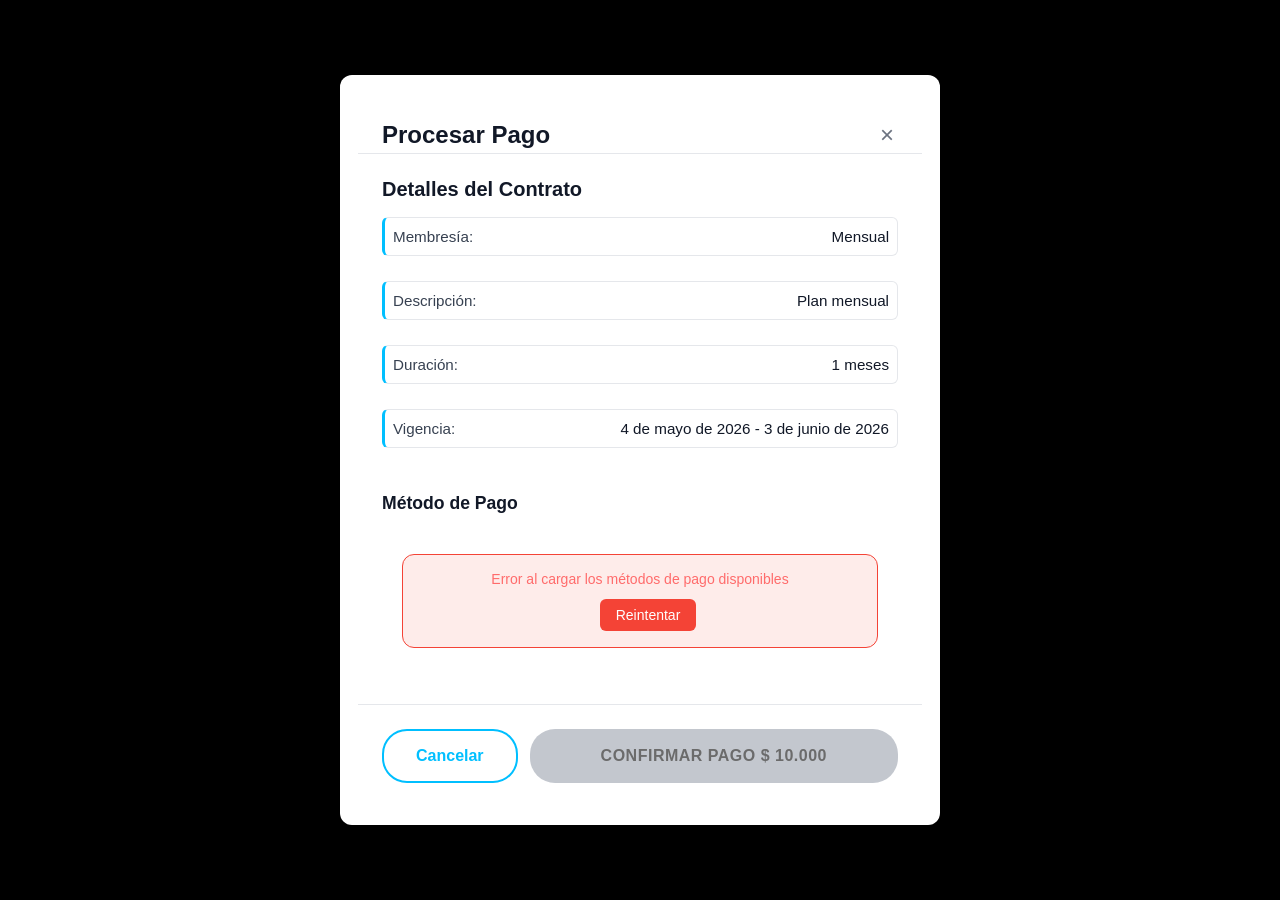
PagoModal › permite reintentar y muestra error por metodo no seleccionado cuando no hay metodos
Expected: the text "Error al cargar los métodos de pago disponibles" is shown, [491,571,789,587]
Click the button "Reintentar" at {"x": 648, "y": 615}, box [600,599,696,631]
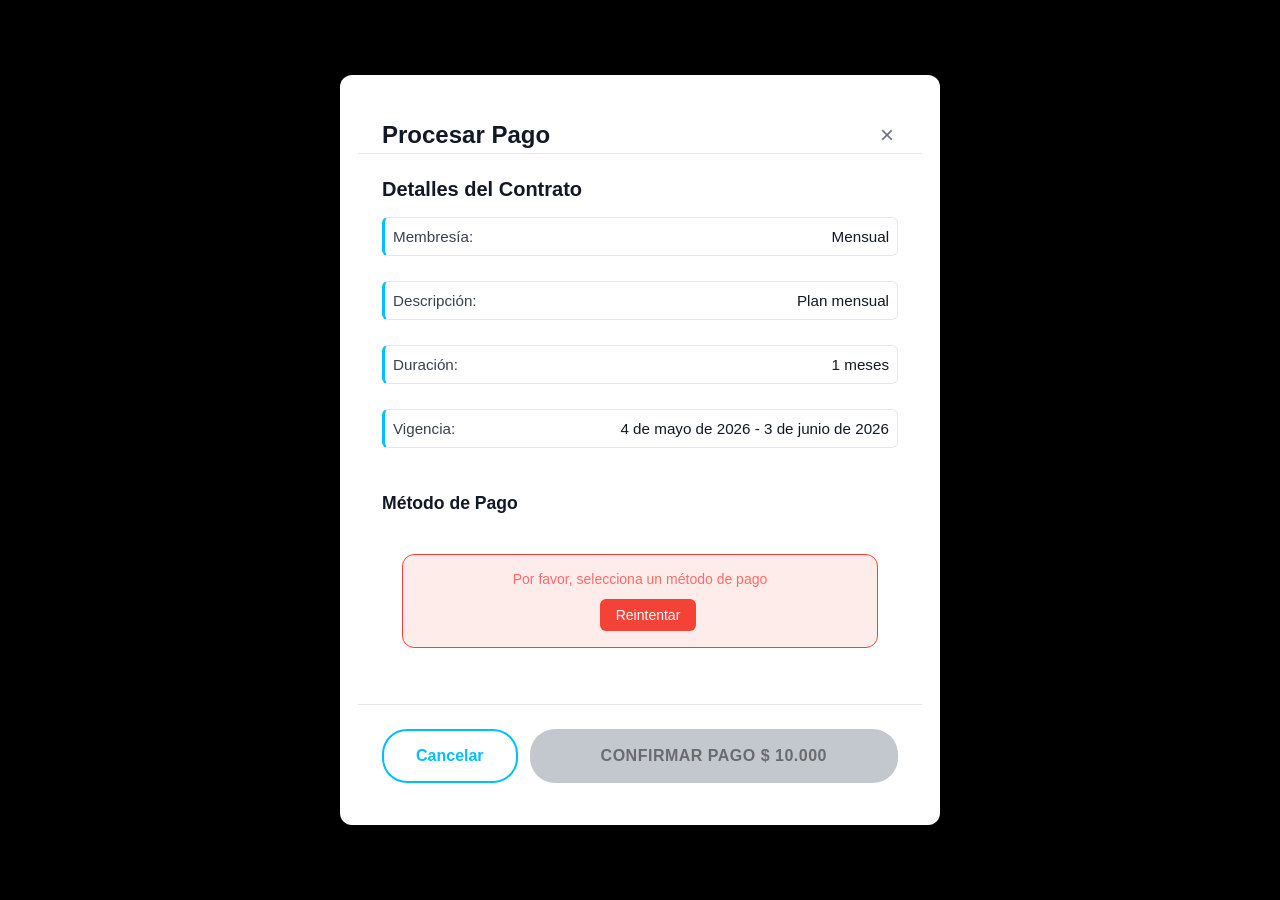
Now the text "Por favor, selecciona un método de pago" is shown, box [513,571,767,587]
